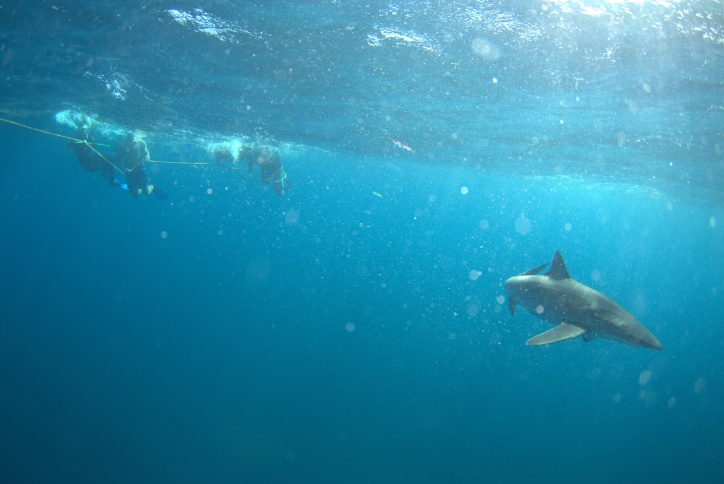Sedoso: (479, 246, 678, 371)
